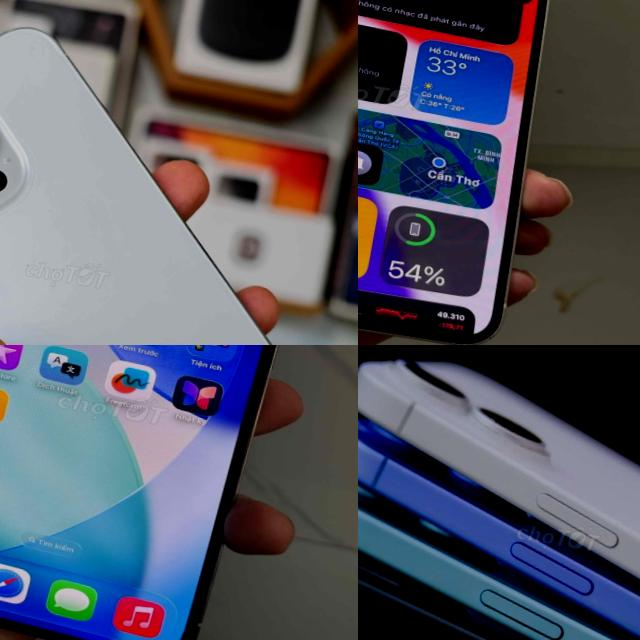gen_12_13: (358, 0, 577, 345)
gen_15: (0, 0, 358, 345), (0, 345, 322, 640)
gen_16: (358, 359, 640, 578)
